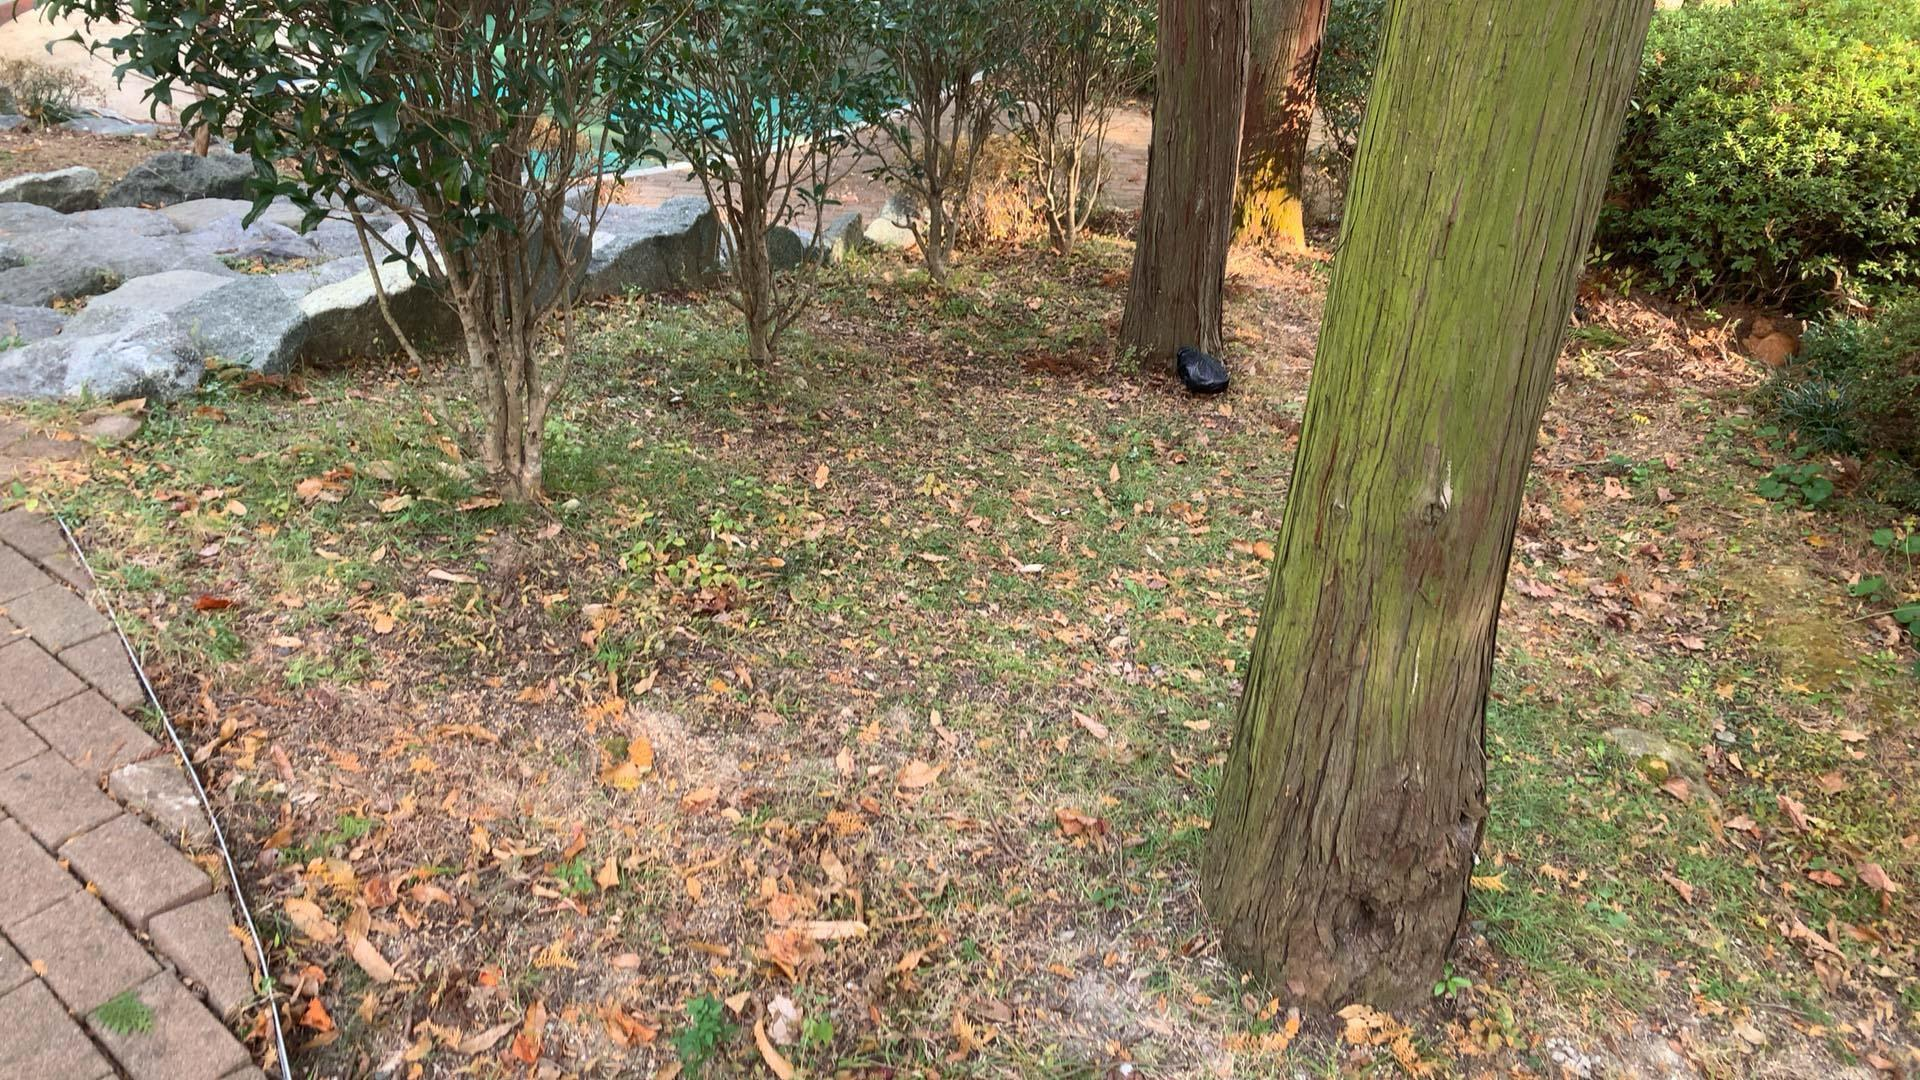black_bag: (1174, 342, 1232, 396)
